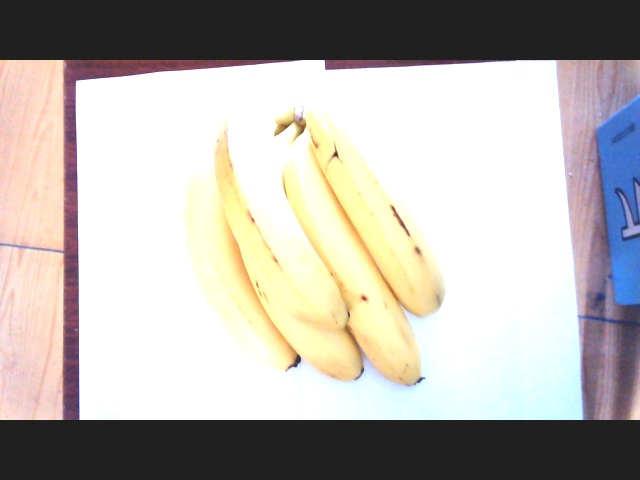banana: (191, 124, 450, 390)
